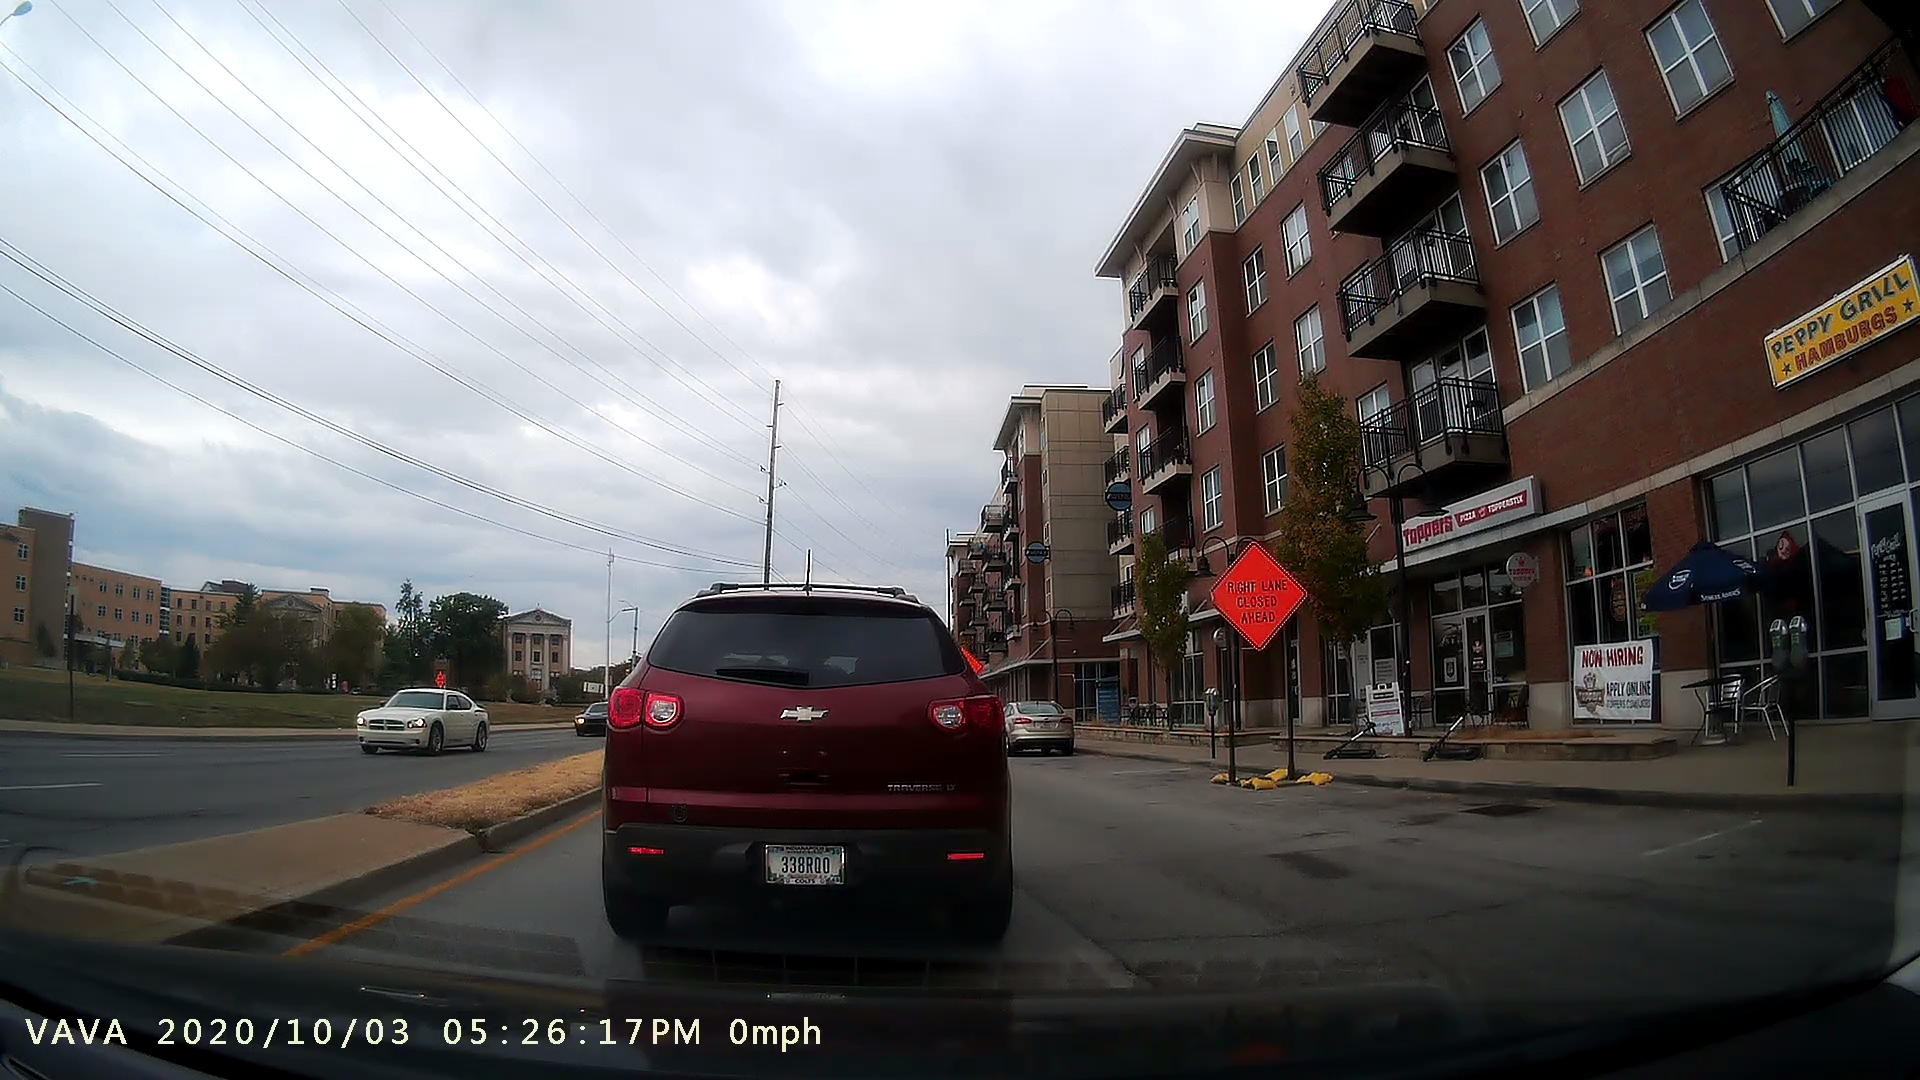ttcs_right_lane_closed_ahead: (1199, 531, 1319, 785)
